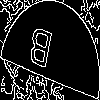B: (25, 25, 54, 79)
